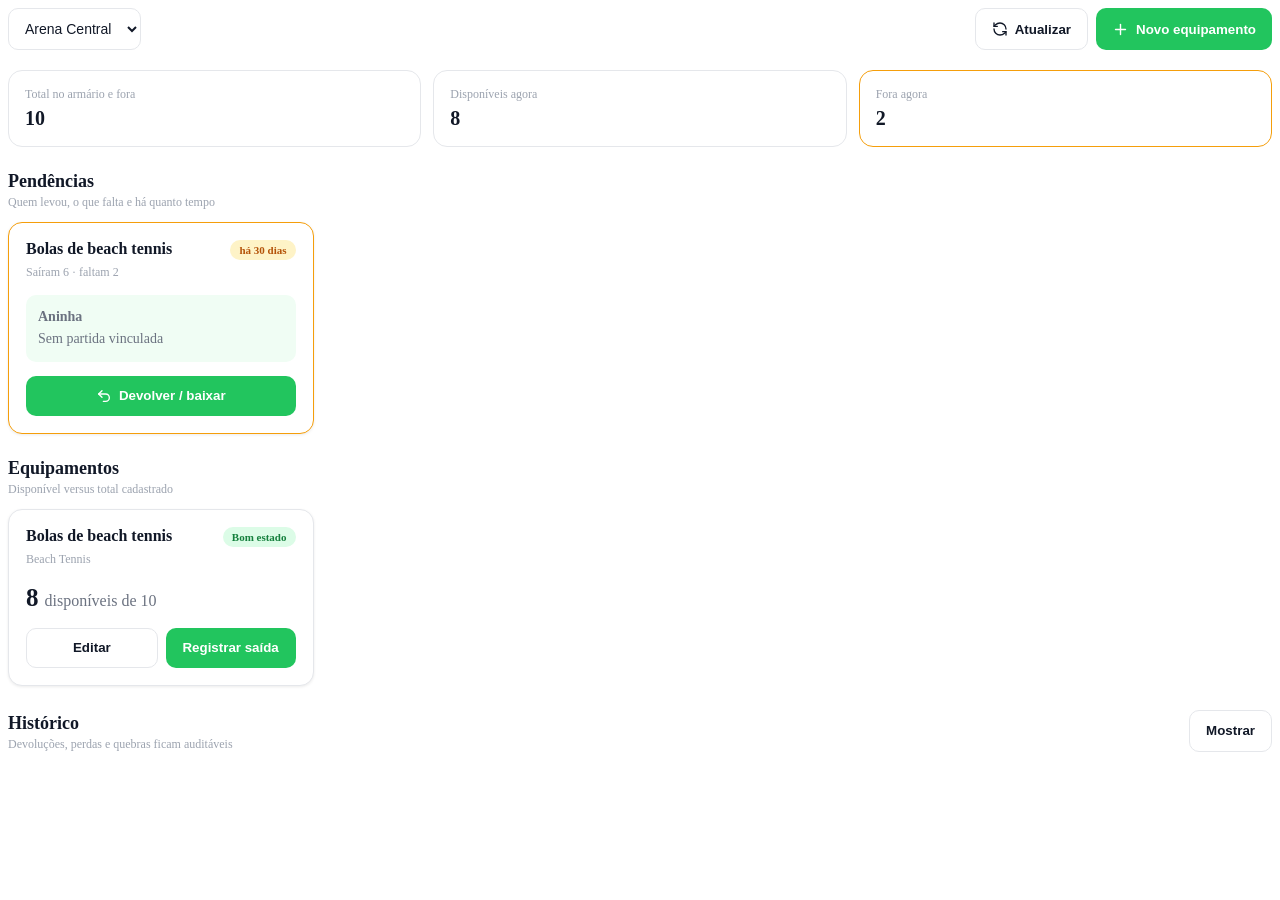
Test: OwnerEquipment › explica que perda ou quebra reduz o total antes da confirmação
Click the button "Devolver / baixar" at (161,396), box [26,376,296,416]
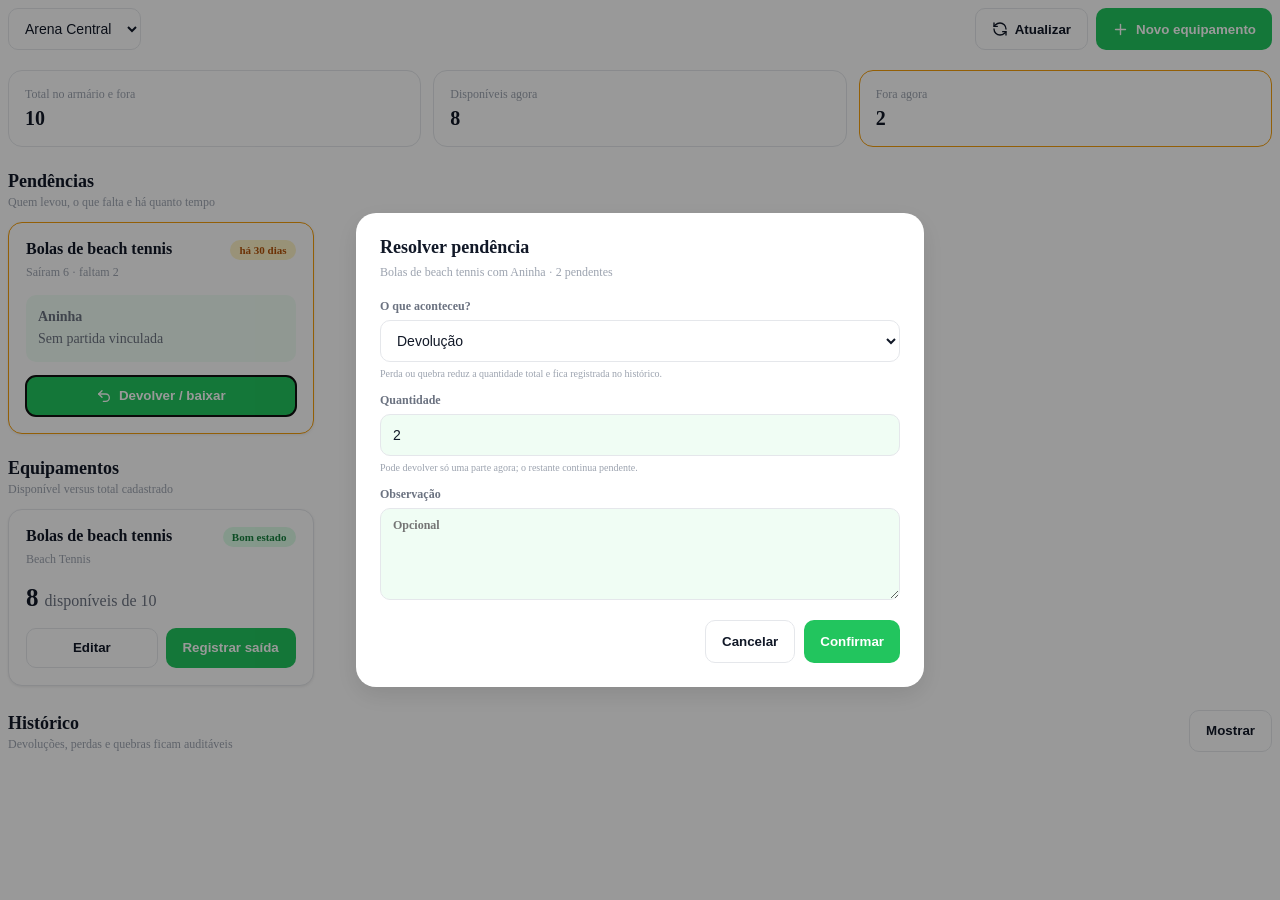
Check: the text "Perda ou quebra reduz a quantidade total" is shown, box [380,368,662,379]
Check: the text "Pode devolver só uma parte agora" is shown, box [380,462,638,473]
